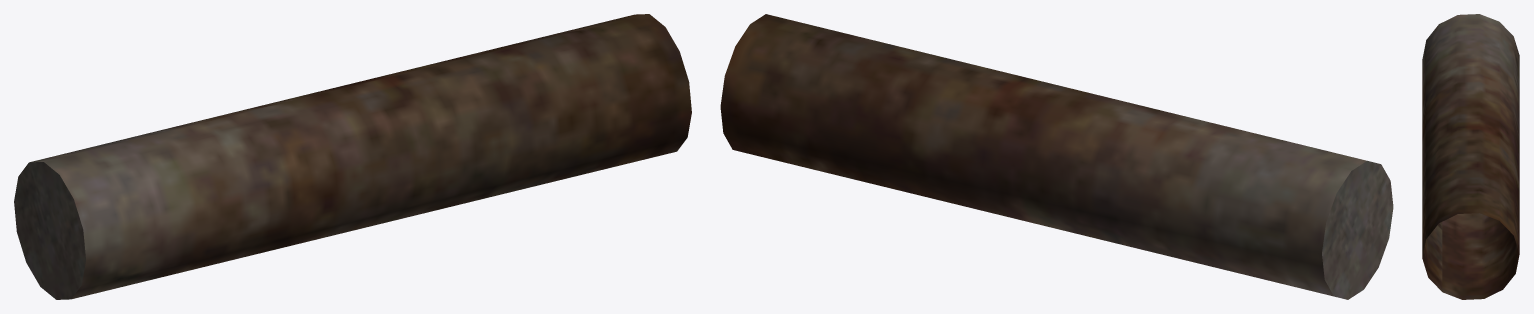
The model's file is 02_05_comm_room_lever_box_lock.dae.
3 renders of one model, left to right at view 1: azimuth 30°, elevation 25°; view 2: azimuth 150°, elevation 25°; view 3: azimuth 270°, elevation 25°, orthographic. The views are drawn at different scales.
Visible parts, largest first — view 1: polySurface14; view 2: polySurface14; view 3: polySurface14.
Part boxes in pixels (bbox=[...]): polySurface14: bbox=[14, 14, 691, 299]; polySurface14: bbox=[720, 14, 1393, 299]; polySurface14: bbox=[1422, 14, 1519, 299].
Bounding box in the file's own units: 0.1091 × 0.0222 × 0.0225.
